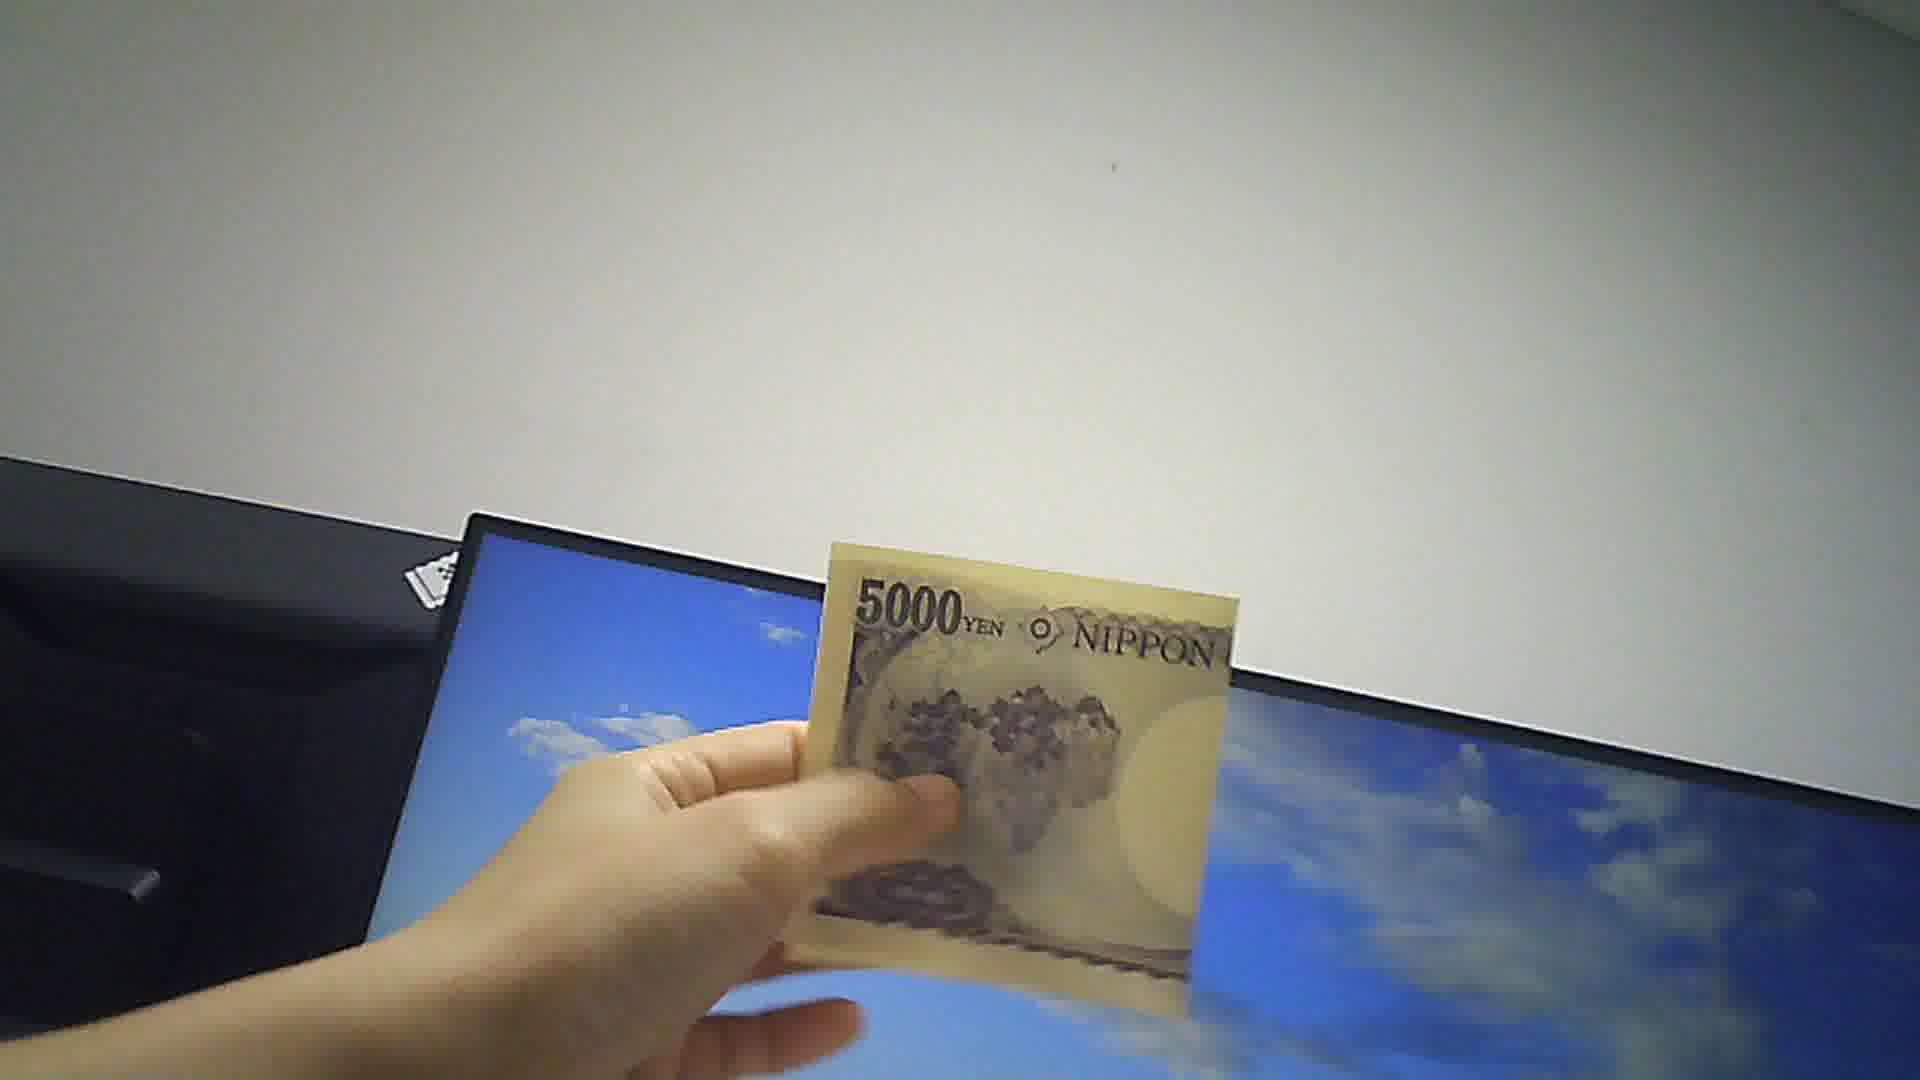5,000 Yen: (773, 518, 1251, 1025)
